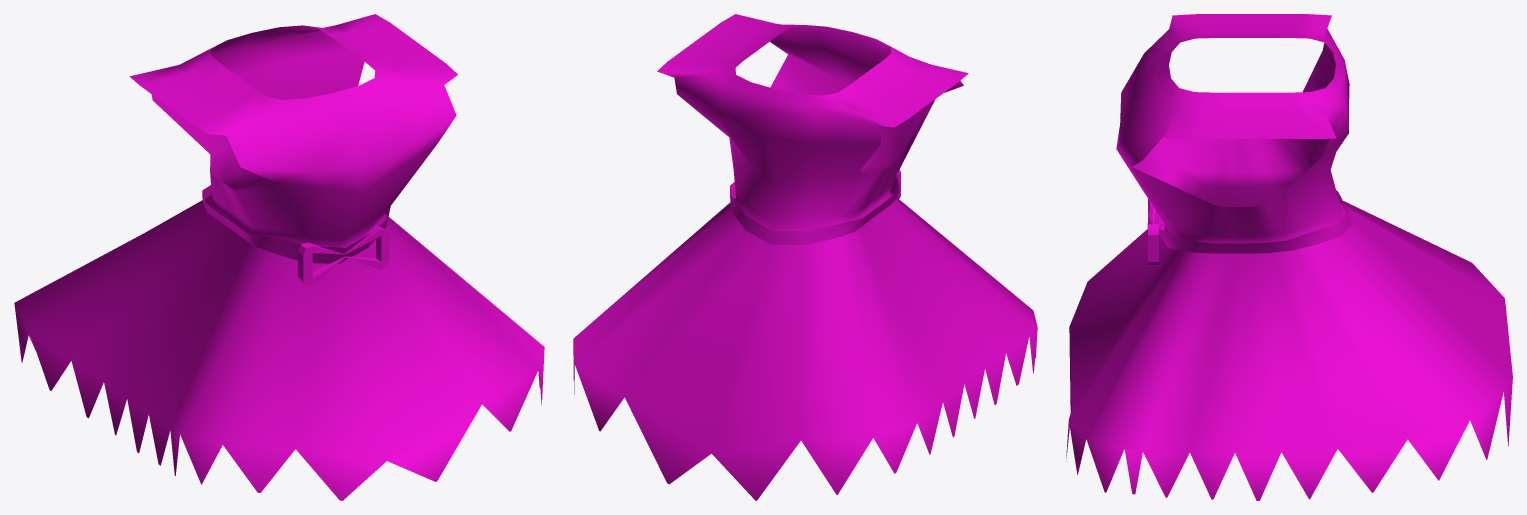
Rendered from pembe kurdeleli elbise.fbx.
3 views of the same model, side by side, from view 1: azimuth 30°, elevation 25°; view 2: azimuth 150°, elevation 25°; view 3: azimuth 270°, elevation 25° (orthographic). The views are drawn at different scales.
Visible parts, largest first — view 1: Küp; view 2: Küp; view 3: Küp.
Part boxes in pixels (bbox=[...]): Küp: bbox=[14, 14, 544, 500]; Küp: bbox=[573, 14, 1037, 500]; Küp: bbox=[1066, 14, 1512, 500].
Size of the model in its own units: 177 by 164 by 179.
